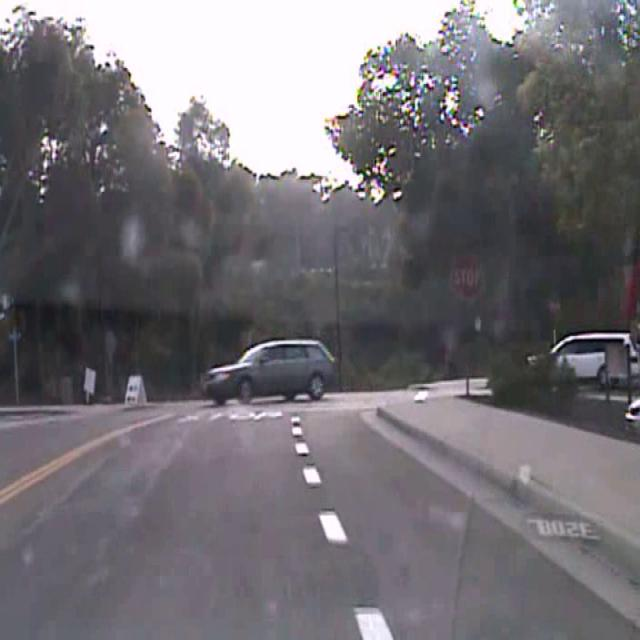stop: (448, 252, 484, 300)
